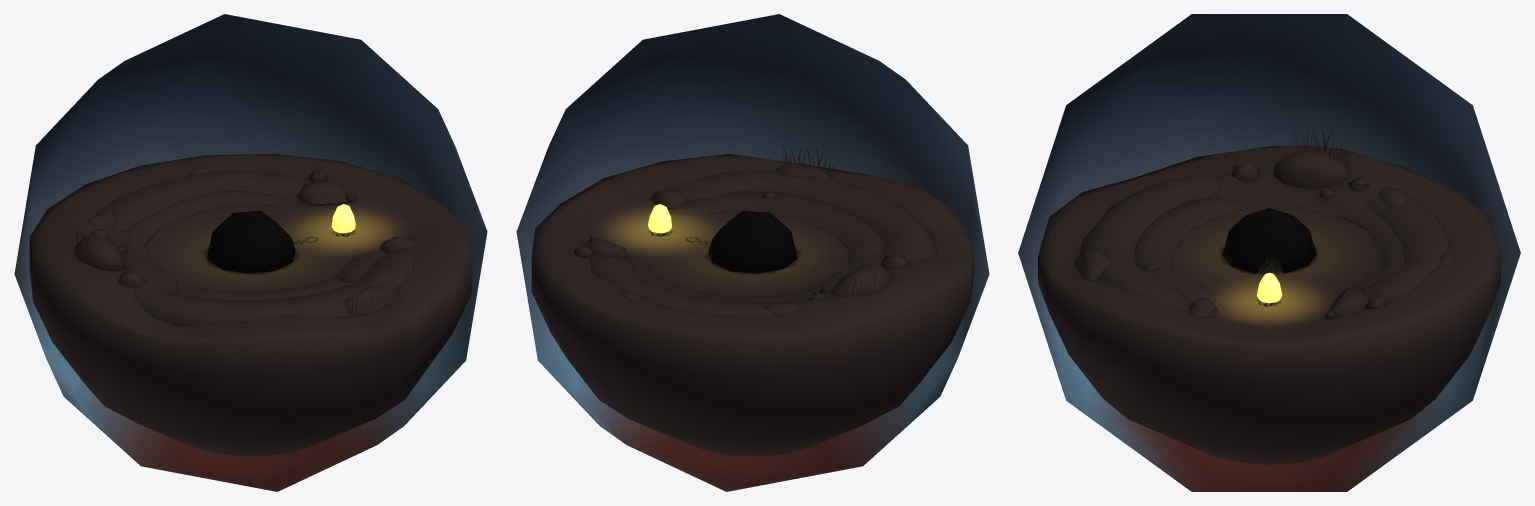
3 views of the same model, side by side, from view 1: azimuth 30°, elevation 25°; view 2: azimuth 150°, elevation 25°; view 3: azimuth 270°, elevation 25° (orthographic). The views are drawn at different scales.
Parts seen in each view (by area): view 1: ground.003, envirosphere.008, lodge.003, GRASS.018, flame.002; view 2: ground.003, envirosphere.008, lodge.003, flame.002, GRASS.019; view 3: ground.003, envirosphere.008, lodge.003, flame.002, GRASS.019.
Part boxes in pixels (x1,y1,x2,y2): ground.003: [29, 153, 472, 456]; envirosphere.008: [14, 14, 487, 491]; lodge.003: [207, 210, 295, 273]; GRASS.018: [348, 273, 401, 316]; flame.002: [331, 204, 355, 233]; ground.003: [531, 154, 974, 456]; envirosphere.008: [516, 14, 989, 491]; lodge.003: [708, 210, 797, 273]; flame.002: [648, 204, 672, 233]; GRASS.019: [843, 261, 891, 296]; ground.003: [1038, 145, 1500, 464]; envirosphere.008: [1018, 14, 1520, 491]; lodge.003: [1222, 208, 1316, 273]; flame.002: [1256, 272, 1282, 303]; GRASS.019: [1290, 130, 1349, 170].
Size of the model in its own units: 13.02 by 13.69 by 13.69.
Materials: 8 (3 with a texture image).
